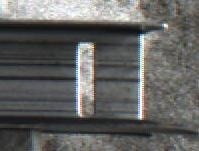40ngpress: (43, 19, 159, 128)
